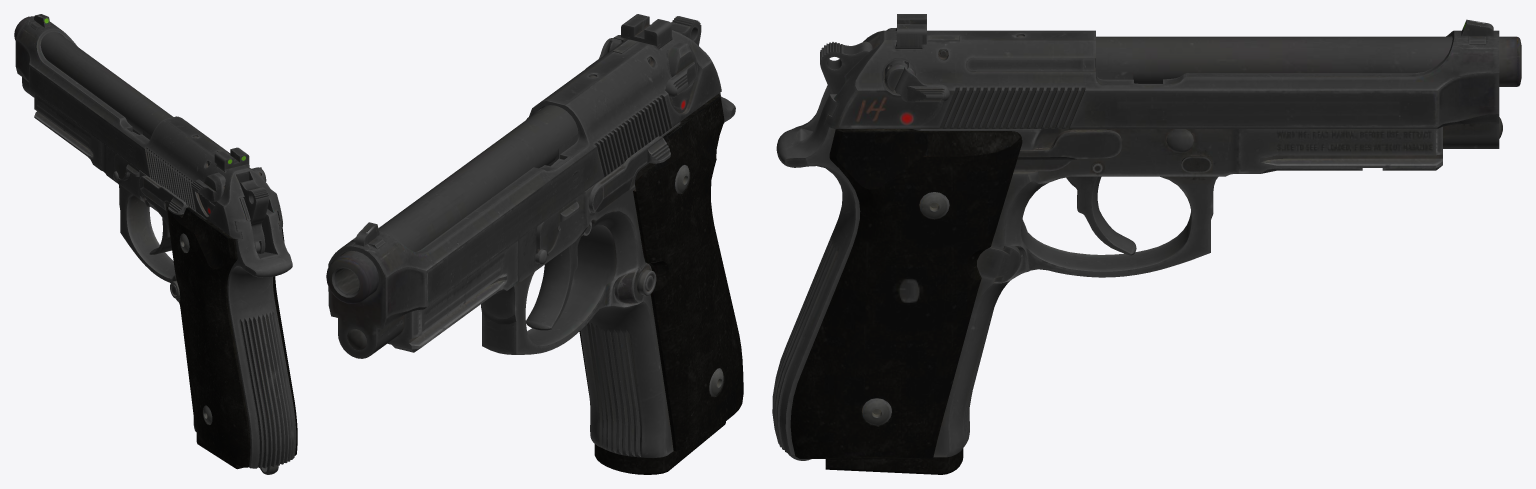
Rendered from pistolet.glb.
The picture shows the model from 3 angles, left to right: view 1: azimuth 30°, elevation 25°; view 2: azimuth 150°, elevation 25°; view 3: azimuth 270°, elevation 25°; orthographic projection. The views are drawn at different scales.
Parts seen in each view (by area): view 1: carcasse, glissiere, canon, chien, detente; view 2: carcasse, glissiere, canon, detente, chargeur; view 3: carcasse, glissiere, canon, chargeur, detente, chien.
Boxes of the visible parts, left/top/right/bottom form: carcasse: left=22, top=77, right=297, bottom=474; glissiere: left=15, top=14, right=282, bottom=239; canon: left=14, top=16, right=268, bottom=220; chien: left=239, top=179, right=269, bottom=253; detente: left=149, top=218, right=171, bottom=254; carcasse: left=328, top=93, right=743, bottom=457; glissiere: left=340, top=14, right=721, bottom=328; canon: left=326, top=16, right=700, bottom=303; detente: left=526, top=237, right=580, bottom=330; chargeur: left=594, top=421, right=725, bottom=474; carcasse: left=772, top=85, right=1502, bottom=460; glissiere: left=825, top=14, right=1499, bottom=129; canon: left=820, top=34, right=1521, bottom=86; chargeur: left=825, top=448, right=963, bottom=474; detente: left=1066, top=176, right=1136, bottom=255; chien: left=820, top=41, right=872, bottom=94.
Size of the model in its own units: 0.0378 by 0.1399 by 0.217.
Materials: 1 (1 with a texture image).
